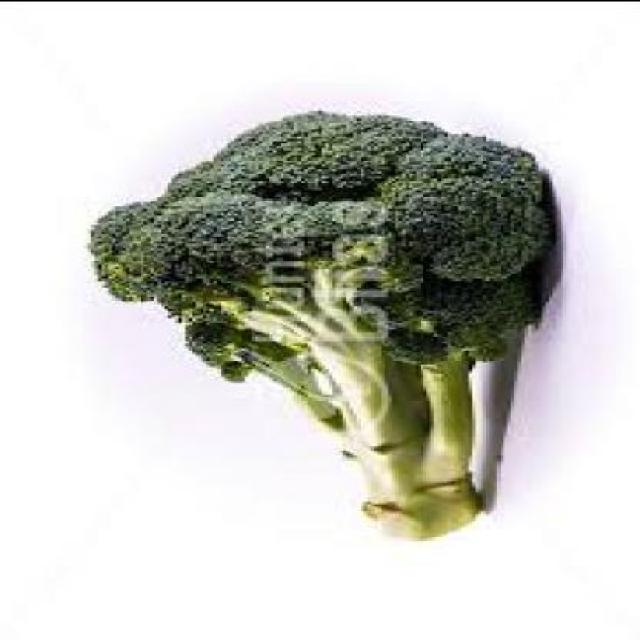BIODEGRADABLE: (85, 112, 552, 542)
